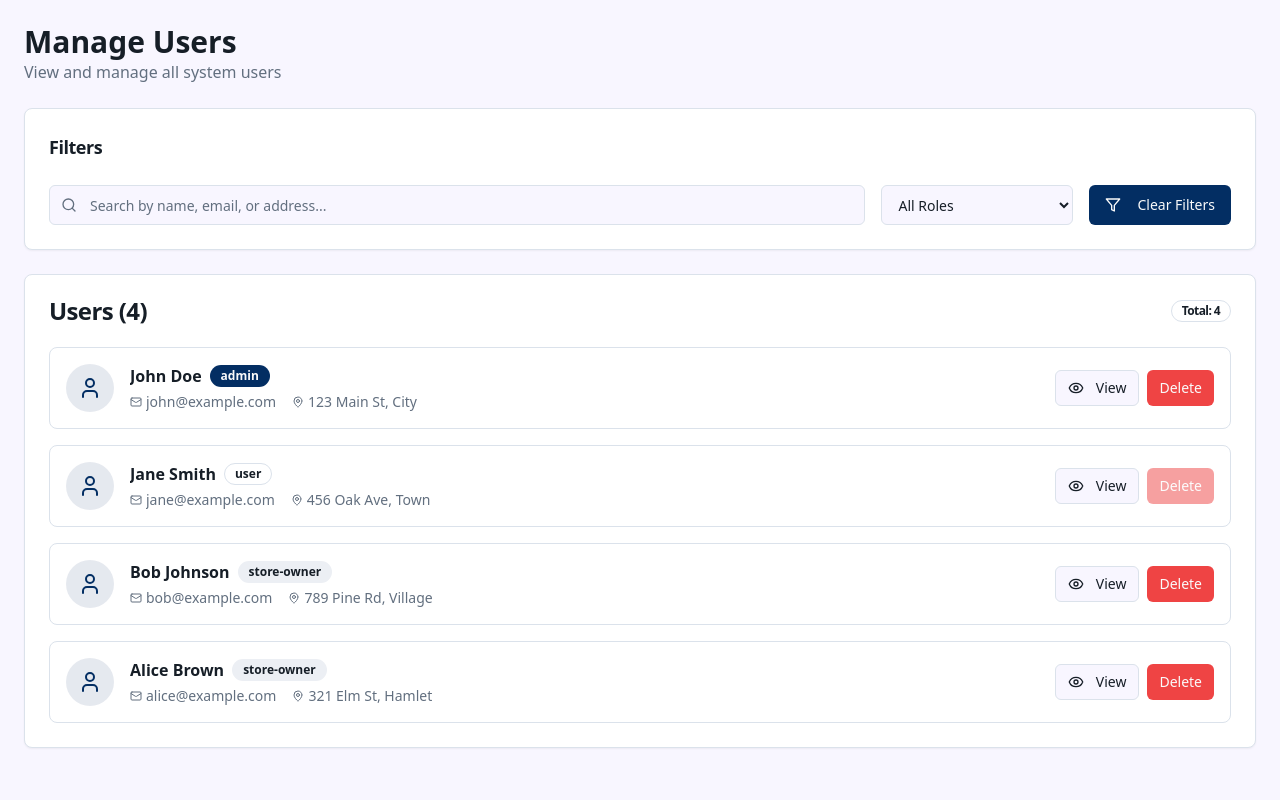
Test: AdminUsers › should filter users by search term
// Search for "John"
Step 1. Type "John" into the field with placeholder "Search by name, email, or address..." → {"x": 457, "y": 205}, box [49,185,865,225]
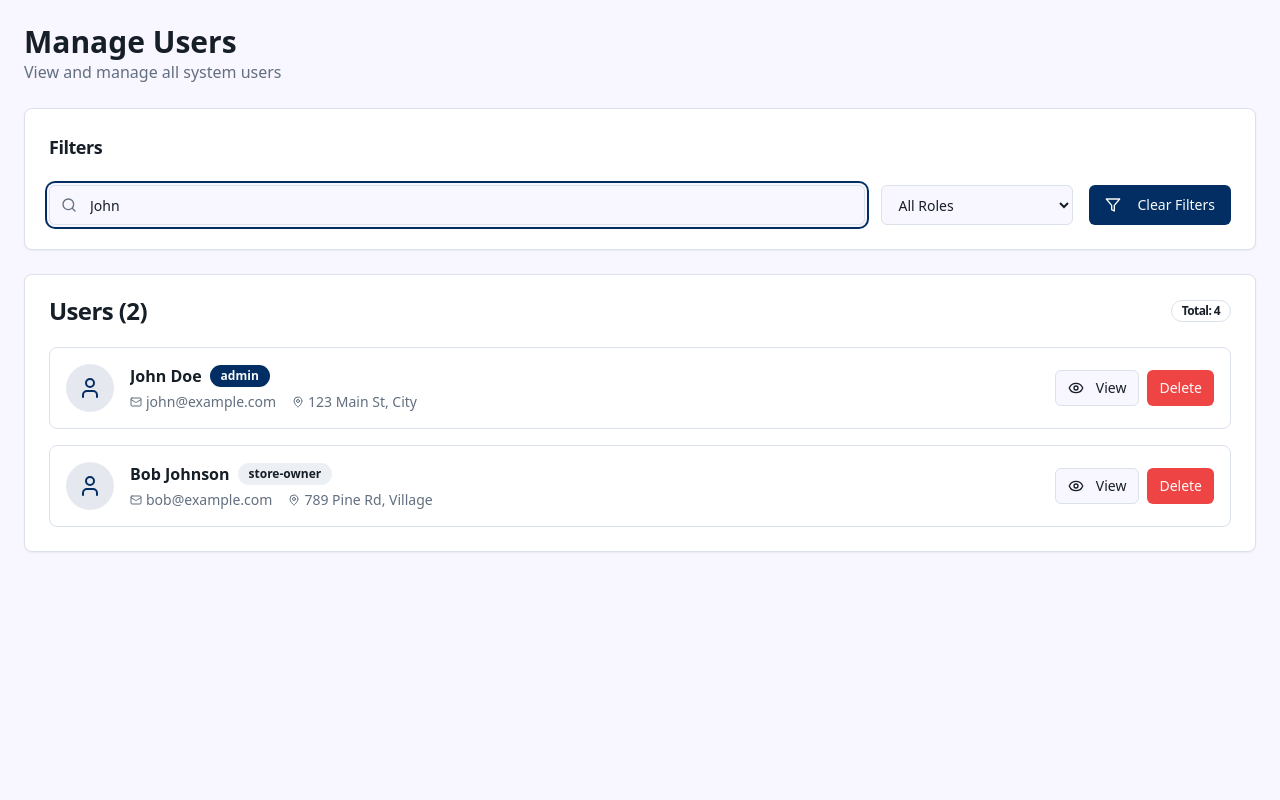
Expected: the heading "John Doe" is shown, [130,364,202,388]
Expected: the heading "Jane Smith" is gone
